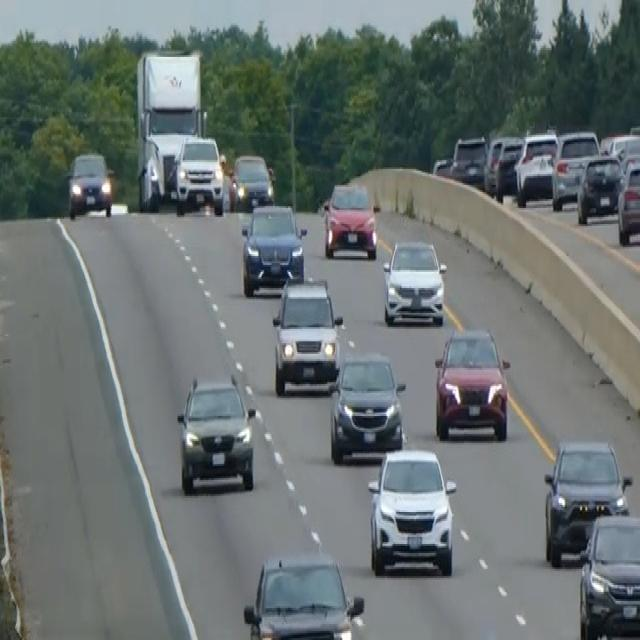bus: (134, 48, 204, 210)
car: (542, 436, 632, 567), (242, 550, 365, 638), (175, 372, 256, 494), (433, 323, 510, 441), (328, 350, 406, 464), (271, 274, 343, 396), (577, 510, 639, 638), (240, 201, 306, 295), (382, 237, 447, 327), (321, 180, 378, 260), (173, 133, 224, 215), (551, 128, 600, 210), (513, 128, 558, 206), (576, 151, 623, 224), (66, 149, 113, 219), (228, 151, 274, 212), (449, 133, 488, 187), (616, 155, 639, 245), (493, 135, 523, 201), (600, 130, 639, 167), (483, 135, 504, 194)
jeep: (365, 442, 458, 578)
